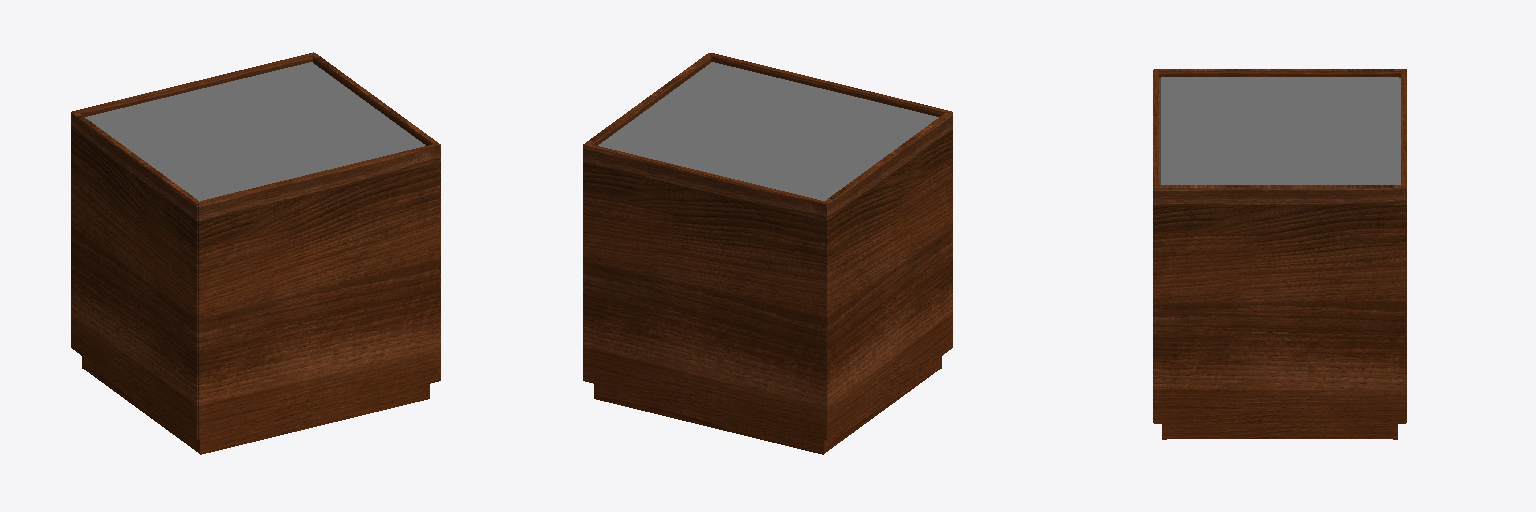
3 views of the same model, side by side, from view 1: azimuth 30°, elevation 25°; view 2: azimuth 150°, elevation 25°; view 3: azimuth 270°, elevation 25° (orthographic).
Parts seen in each view (by area): view 1: Mesh1 Component_16_1 Component_36_1 Component_1_1 Model, Mesh10 Component_34_2 Component_7_1 Component_1_1 Model, Mesh8 Component_37_1 Component_39_1 Component_1_1 Model, Mesh15 Component_40_2 Component_42_1 Component_7_1 Component_1_1, Mesh11 Component_35_1 Component_7_1 Component_1_1 Model, Mesh9 Component_34_1 Component_7_1 Component_1_1 Model, Mesh16 Component_41_2 Component_42_1 Component_7_1 Component_1_1; view 2: Mesh11 Component_35_1 Component_7_1 Component_1_1 Model, Mesh10 Component_34_2 Component_7_1 Component_1_1 Model, Mesh8 Component_37_1 Component_39_1 Component_1_1 Model, Mesh12 Component_40_1 Component_42_1 Component_7_1 Component_1_1, Mesh1 Component_16_1 Component_36_1 Component_1_1 Model, Mesh9 Component_34_1 Component_7_1 Component_1_1 Model, Mesh16 Component_41_2 Component_42_1 Component_7_1 Component_1_1; view 3: Mesh9 Component_34_1 Component_7_1 Component_1_1 Model, Mesh8 Component_37_1 Component_39_1 Component_1_1 Model, Mesh14 Component_41_1 Component_42_1 Component_7_1 Component_1_1, Mesh10 Component_34_2 Component_7_1 Component_1_1 Model, Mesh11 Component_35_1 Component_7_1 Component_1_1 Model, Mesh1 Component_16_1 Component_36_1 Component_1_1 Model.
Boxes of the visible parts, x1,y1,x2,y2 form: Mesh1 Component_16_1 Component_36_1 Component_1_1 Model: [198, 144, 439, 439]; Mesh10 Component_34_2 Component_7_1 Component_1_1 Model: [71, 112, 198, 439]; Mesh8 Component_37_1 Component_39_1 Component_1_1 Model: [85, 62, 425, 201]; Mesh15 Component_40_2 Component_42_1 Component_7_1 Component_1_1: [198, 384, 429, 454]; Mesh11 Component_35_1 Component_7_1 Component_1_1 Model: [72, 52, 313, 116]; Mesh9 Component_34_1 Component_7_1 Component_1_1 Model: [313, 53, 440, 380]; Mesh16 Component_41_2 Component_42_1 Component_7_1 Component_1_1: [85, 359, 197, 451]; Mesh11 Component_35_1 Component_7_1 Component_1_1 Model: [584, 144, 825, 439]; Mesh10 Component_34_2 Component_7_1 Component_1_1 Model: [825, 112, 952, 439]; Mesh8 Component_37_1 Component_39_1 Component_1_1 Model: [598, 62, 938, 200]; Mesh12 Component_40_1 Component_42_1 Component_7_1 Component_1_1: [594, 384, 825, 454]; Mesh1 Component_16_1 Component_36_1 Component_1_1 Model: [710, 53, 951, 116]; Mesh9 Component_34_1 Component_7_1 Component_1_1 Model: [583, 53, 710, 380]; Mesh16 Component_41_2 Component_42_1 Component_7_1 Component_1_1: [826, 359, 938, 451]; Mesh9 Component_34_1 Component_7_1 Component_1_1 Model: [1154, 185, 1405, 423]; Mesh8 Component_37_1 Component_39_1 Component_1_1 Model: [1159, 77, 1400, 184]; Mesh14 Component_41_1 Component_42_1 Component_7_1 Component_1_1: [1167, 424, 1392, 438]; Mesh10 Component_34_2 Component_7_1 Component_1_1 Model: [1154, 69, 1404, 77]; Mesh11 Component_35_1 Component_7_1 Component_1_1 Model: [1401, 69, 1406, 422]; Mesh1 Component_16_1 Component_36_1 Component_1_1 Model: [1153, 70, 1158, 422].
Size of the model in its own units: 500 by 500 by 450.
5 materials, 2 textured.